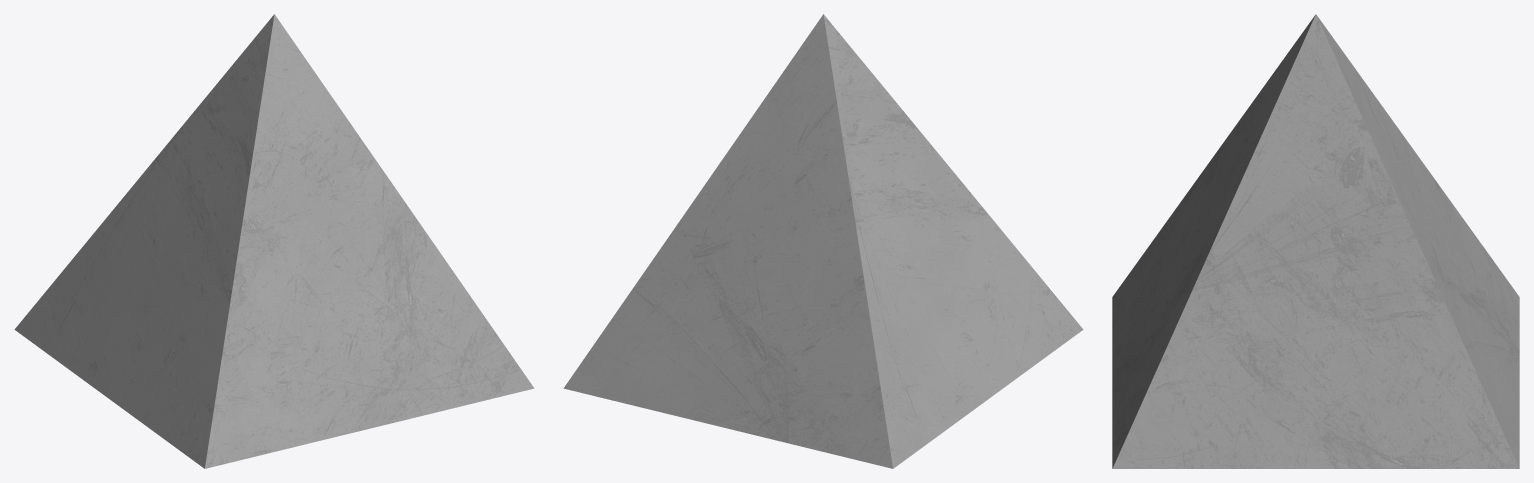
3 views of the same model, side by side, from view 1: azimuth 30°, elevation 25°; view 2: azimuth 150°, elevation 25°; view 3: azimuth 270°, elevation 25° (orthographic). The views are drawn at different scales.
Visible parts, largest first — view 1: Pyramid; view 2: Pyramid; view 3: Pyramid.
Boxes of the visible parts, x1,y1,x2,y2 form: Pyramid: (14,14,534,468); Pyramid: (563,14,1083,468); Pyramid: (1112,14,1519,468).
Size of the model in its own units: 1.49 by 1.49 by 1.49.
Materials: 1 (1 with a texture image).
